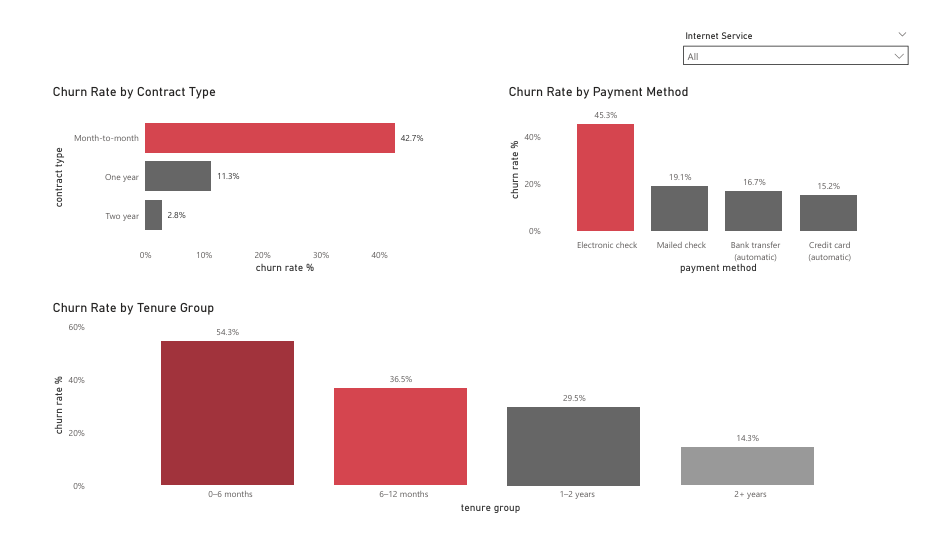

What the dashboard file says about the page in this screenshot:
{"tool":"powerbi","page":{"name":"Churn Drivers","canvas":[1280,720],"ordinal":1},"visuals":[{"type":"clusteredBarChart","title":"Churn Rate by Contract Type","fields":{"Category":["analytics dim_contract.contract_type"],"Y":["analytics fact_customer_churn.Churn Rate %"]},"box":[48,96,544,272],"z":0},{"type":"clusteredColumnChart","title":"Churn Rate by Payment Method","fields":{"Category":["analytics dim_contract.payment_method"],"Y":["analytics fact_customer_churn.Churn Rate %"]},"box":[688,96,544,272],"z":1000},{"type":"columnChart","title":"Churn Rate by Tenure Group","fields":{"Category":["analytics dim_customer.Tenure Group"],"Y":["analytics fact_customer_churn.Churn Rate %"]},"box":[48,400,1184,304],"z":2000},{"type":"slicer","fields":{"Values":["analytics dim_services.internet_service"]},"box":[928,16,336,64],"z":3000}]}

Visuals, with their boxes in screenshot pixels (x1, y1, x2, y2), scaled from the page's 1280x720 canvas onto the 943x544 screenshot:
"Churn Rate by Contract Type" clusteredBarChart: bbox=[35, 73, 436, 278]
"Churn Rate by Payment Method" clusteredColumnChart: bbox=[507, 73, 908, 278]
"Churn Rate by Tenure Group" columnChart: bbox=[35, 302, 908, 532]
slicer - analytics dim_services.internet_service: bbox=[684, 12, 931, 60]
